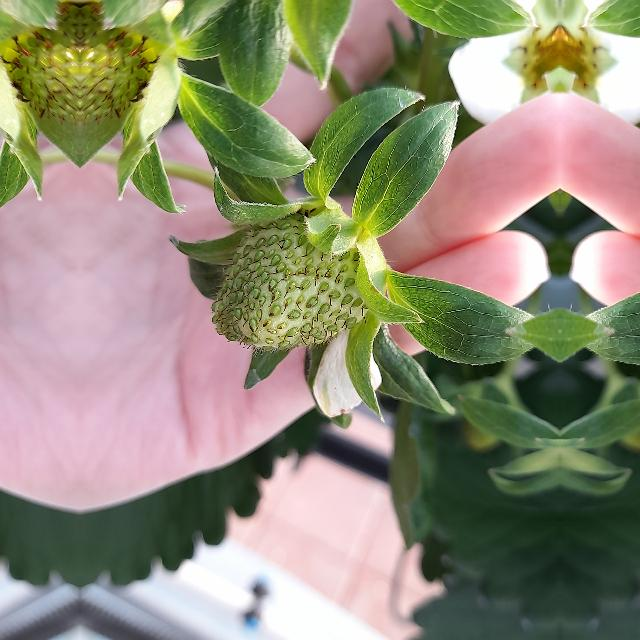Health_25: (208, 206, 378, 354)
